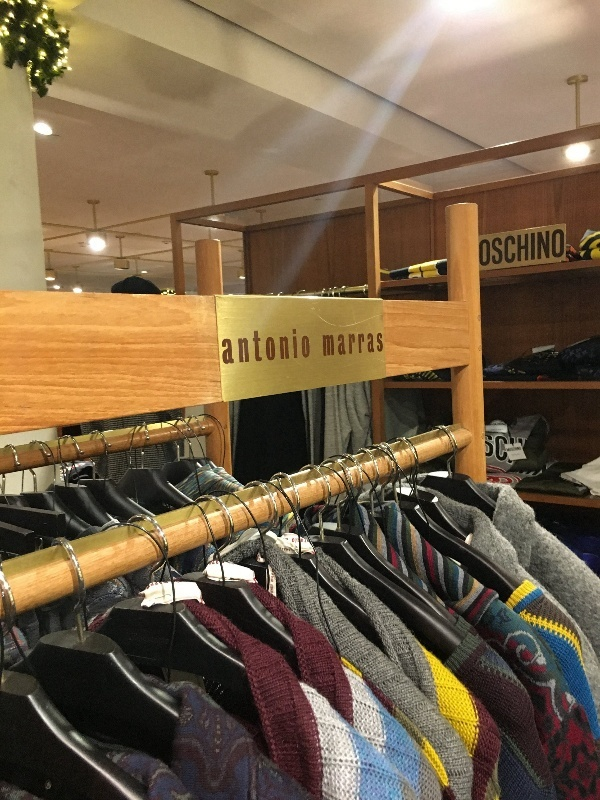text: (225, 326, 240, 369), (241, 326, 256, 369), (257, 326, 272, 369), (273, 326, 288, 369), (289, 326, 304, 369), (481, 229, 496, 269), (497, 229, 512, 269), (513, 229, 528, 269), (529, 229, 544, 269), (545, 229, 560, 269), (497, 434, 512, 465), (513, 434, 528, 465), (337, 333, 352, 357), (353, 333, 368, 357), (485, 434, 496, 465), (369, 333, 383, 357), (323, 333, 336, 357), (305, 326, 311, 369), (561, 229, 566, 269), (221, 326, 224, 369), (478, 229, 480, 269)
